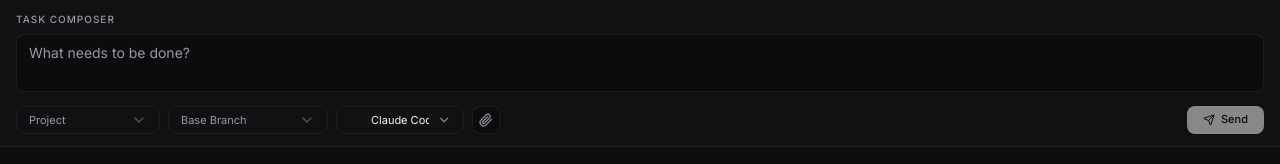
Scenario: TaskComposer › paste under 1000 chars fills textarea normally
The image size is (1280, 164).
Click the text box with test id "composer-prompt" at (640, 63), box left=16, top=34, right=1264, bottom=92
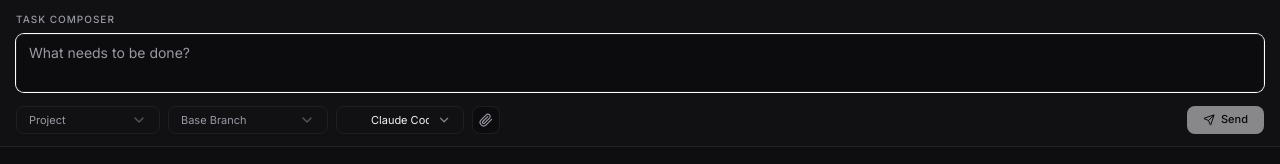
Type keys "short text"
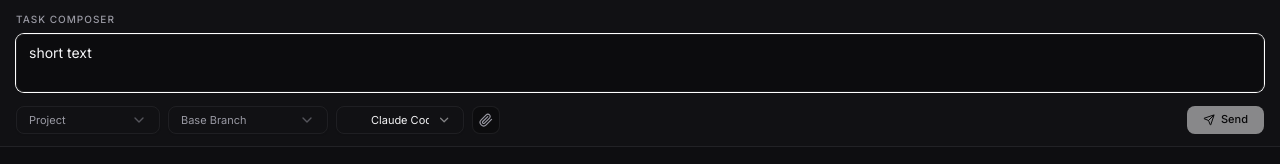
Expected: the text box with test id "composer-prompt" holds "short text", left=16, top=34, right=1264, bottom=92
